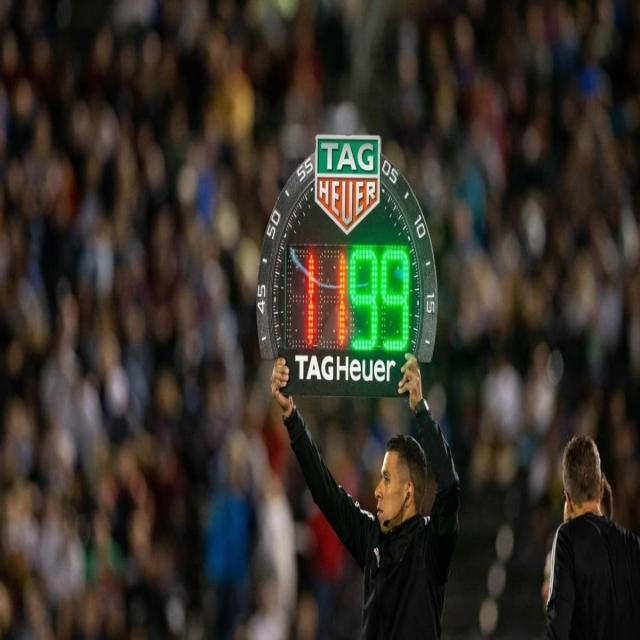substitution: (246, 122, 444, 406)
